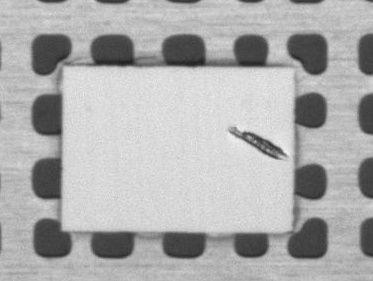DIE_INK: (297, 92, 373, 124)
